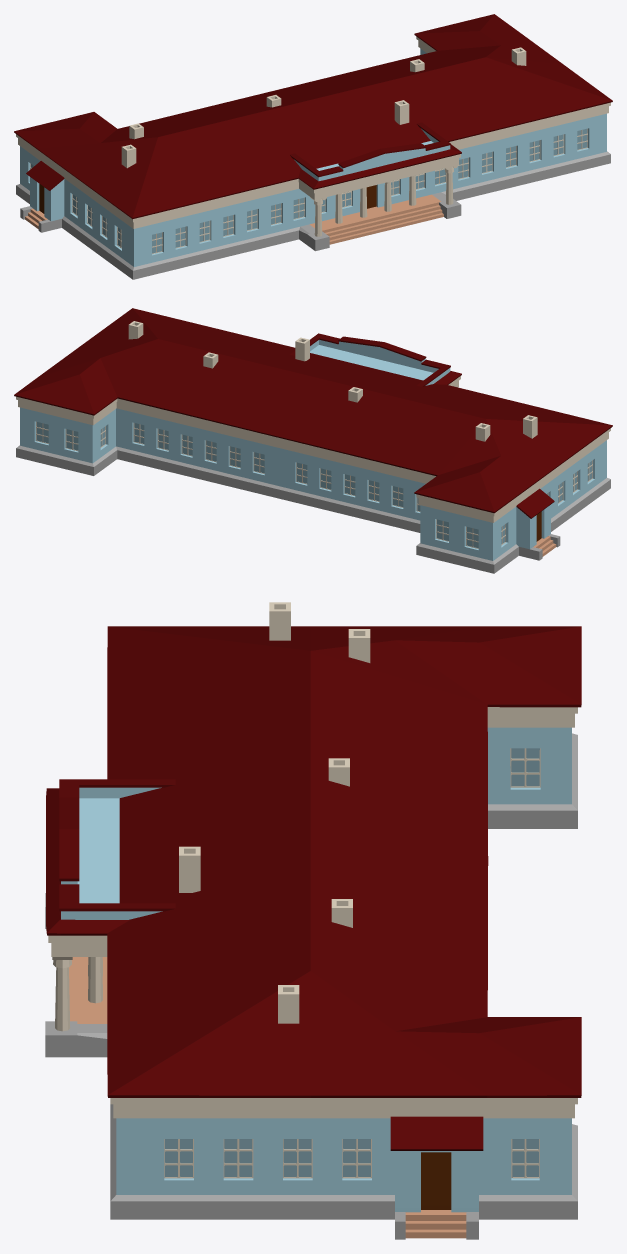
The model's file is 1shirokiy.glb.
3 renders of one model, top to bottom at view 1: azimuth 30°, elevation 25°; view 2: azimuth 150°, elevation 25°; view 3: azimuth 270°, elevation 25°, orthographic. The views are drawn at different scales.
Visible parts, largest first — view 1: Плоскость.001; view 2: Плоскость.001; view 3: Плоскость.001.
Part boxes in pixels (x1=…): Плоскость.001: x1=14, y1=14, x2=612, y2=279; Плоскость.001: x1=14, y1=308, x2=612, y2=573; Плоскость.001: x1=45, y1=602, x2=581, y2=1239.
Size of the model in its own units: 4.06 by 0.688 by 1.82.
